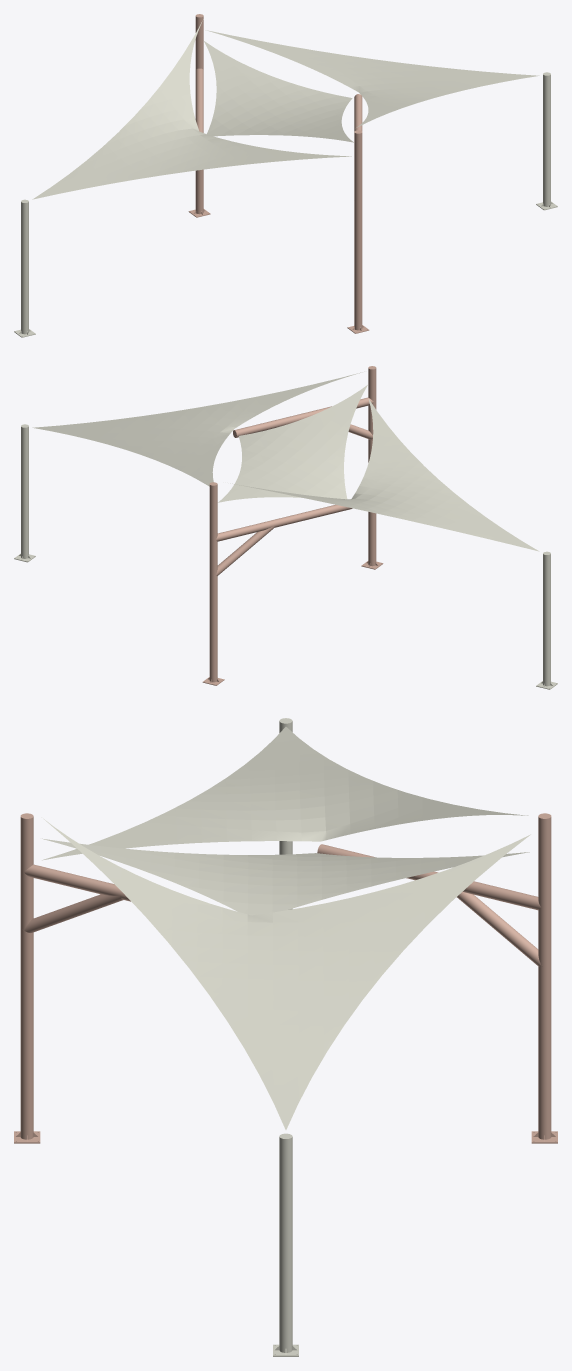
Rendered from SunShade.obj.
The picture shows the model from 3 angles, top to bottom: view 1: azimuth 30°, elevation 25°; view 2: azimuth 150°, elevation 25°; view 3: azimuth 270°, elevation 25°; orthographic projection. The views are drawn at different scales.
Parts seen in each view (by area): view 1: Mesh45 Group11 Group10 Group9 Shade_Sail_Triple_Sails___Cantilev, Mesh47 Group13 Group12 Group9 Shade_Sail_Triple_Sails___Cantilev, Mesh49 Group15 Group14 Group9 Shade_Sail_Triple_Sails___Cantilev, Mesh87 Group31 Group30 Group25 Shade_Sail_Triple_Sails___Cantile, Mesh1 Group2 Group1 Shade_Sail_Triple_Sails___Cantilever_Columns, Mesh23 Group6 Group5 Shade_Sail_Triple_Sails___Cantilever_Column, Mesh59 Group22 Group21 Group16 Shade_Sail_Triple_Sails___Cantile, Mesh56 Group20 Group19 Group16 Shade_Sail_Triple_Sails___Cantile; view 2: Mesh47 Group13 Group12 Group9 Shade_Sail_Triple_Sails___Cantilev, Mesh49 Group15 Group14 Group9 Shade_Sail_Triple_Sails___Cantilev, Mesh45 Group11 Group10 Group9 Shade_Sail_Triple_Sails___Cantilev, Mesh59 Group22 Group21 Group16 Shade_Sail_Triple_Sails___Cantile, Mesh56 Group20 Group19 Group16 Shade_Sail_Triple_Sails___Cantile, Mesh1 Group2 Group1 Shade_Sail_Triple_Sails___Cantilever_Columns, Mesh23 Group6 Group5 Shade_Sail_Triple_Sails___Cantilever_Column, Mesh87 Group31 Group30 Group25 Shade_Sail_Triple_Sails___Cantile, Mesh84 Group29 Group28 Group25 Shade_Sail_Triple_Sails___Cantile, Mesh53 Group18 Group17 Group16 Shade_Sail_Triple_Sails___Cantile; view 3: Mesh49 Group15 Group14 Group9 Shade_Sail_Triple_Sails___Cantilev, Mesh45 Group11 Group10 Group9 Shade_Sail_Triple_Sails___Cantilev, Mesh47 Group13 Group12 Group9 Shade_Sail_Triple_Sails___Cantilev, Mesh59 Group22 Group21 Group16 Shade_Sail_Triple_Sails___Cantile, Mesh87 Group31 Group30 Group25 Shade_Sail_Triple_Sails___Cantile, Mesh1 Group2 Group1 Shade_Sail_Triple_Sails___Cantilever_Columns, Mesh56 Group20 Group19 Group16 Shade_Sail_Triple_Sails___Cantile, Mesh53 Group18 Group17 Group16 Shade_Sail_Triple_Sails___Cantile, Mesh84 Group29 Group28 Group25 Shade_Sail_Triple_Sails___Cantile, Mesh81 Group27 Group26 Group25 Shade_Sail_Triple_Sails___Cantile.
Boxes of the visible parts, bbox=[...] form: Mesh45 Group11 Group10 Group9 Shade_Sail_Triple_Sails___Cantilev: bbox=[32, 19, 351, 199]; Mesh47 Group13 Group12 Group9 Shade_Sail_Triple_Sails___Cantilev: bbox=[204, 41, 353, 142]; Mesh49 Group15 Group14 Group9 Shade_Sail_Triple_Sails___Cantilev: bbox=[205, 30, 539, 127]; Mesh87 Group31 Group30 Group25 Shade_Sail_Triple_Sails___Cantile: bbox=[354, 130, 362, 330]; Mesh1 Group2 Group1 Shade_Sail_Triple_Sails___Cantilever_Columns: bbox=[543, 72, 550, 206]; Mesh23 Group6 Group5 Shade_Sail_Triple_Sails___Cantilever_Column: bbox=[21, 199, 28, 334]; Mesh59 Group22 Group21 Group16 Shade_Sail_Triple_Sails___Cantile: bbox=[195, 14, 203, 214]; Mesh56 Group20 Group19 Group16 Shade_Sail_Triple_Sails___Cantile: bbox=[195, 68, 203, 132]; Mesh47 Group13 Group12 Group9 Shade_Sail_Triple_Sails___Cantilev: bbox=[218, 385, 367, 502]; Mesh49 Group15 Group14 Group9 Shade_Sail_Triple_Sails___Cantilev: bbox=[32, 371, 364, 486]; Mesh45 Group11 Group10 Group9 Shade_Sail_Triple_Sails___Cantilev: bbox=[230, 399, 539, 551]; Mesh59 Group22 Group21 Group16 Shade_Sail_Triple_Sails___Cantile: bbox=[209, 482, 217, 682]; Mesh56 Group20 Group19 Group16 Shade_Sail_Triple_Sails___Cantile: bbox=[216, 504, 352, 541]; Mesh1 Group2 Group1 Shade_Sail_Triple_Sails___Cantilever_Columns: bbox=[21, 424, 28, 558]; Mesh23 Group6 Group5 Shade_Sail_Triple_Sails___Cantilever_Column: bbox=[543, 551, 550, 686]; Mesh87 Group31 Group30 Group25 Shade_Sail_Triple_Sails___Cantile: bbox=[368, 366, 376, 566]; Mesh84 Group29 Group28 Group25 Shade_Sail_Triple_Sails___Cantile: bbox=[233, 397, 373, 437]; Mesh53 Group18 Group17 Group16 Shade_Sail_Triple_Sails___Cantile: bbox=[215, 525, 274, 576]; Mesh49 Group15 Group14 Group9 Shade_Sail_Triple_Sails___Cantilev: bbox=[41, 817, 530, 1129]; Mesh45 Group11 Group10 Group9 Shade_Sail_Triple_Sails___Cantilev: bbox=[42, 727, 528, 860]; Mesh47 Group13 Group12 Group9 Shade_Sail_Triple_Sails___Cantilev: bbox=[42, 838, 529, 915]; Mesh59 Group22 Group21 Group16 Shade_Sail_Triple_Sails___Cantile: bbox=[538, 813, 551, 1139]; Mesh87 Group31 Group30 Group25 Shade_Sail_Triple_Sails___Cantile: bbox=[20, 813, 33, 1139]; Mesh1 Group2 Group1 Shade_Sail_Triple_Sails___Cantilever_Columns: bbox=[279, 1133, 292, 1352]; Mesh56 Group20 Group19 Group16 Shade_Sail_Triple_Sails___Cantile: bbox=[317, 844, 541, 910]; Mesh53 Group18 Group17 Group16 Shade_Sail_Triple_Sails___Cantile: bbox=[457, 891, 542, 966]; Mesh84 Group29 Group28 Group25 Shade_Sail_Triple_Sails___Cantile: bbox=[24, 864, 130, 901]; Mesh81 Group27 Group26 Group25 Shade_Sail_Triple_Sails___Cantile: bbox=[22, 894, 122, 932].
Size of the model in its own units: 15646 by 5505 by 8433.
